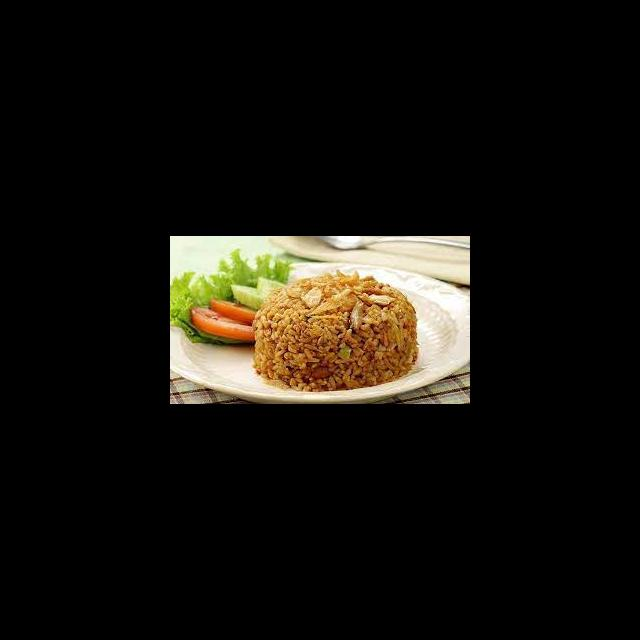food_waste: (246, 278, 419, 371)
